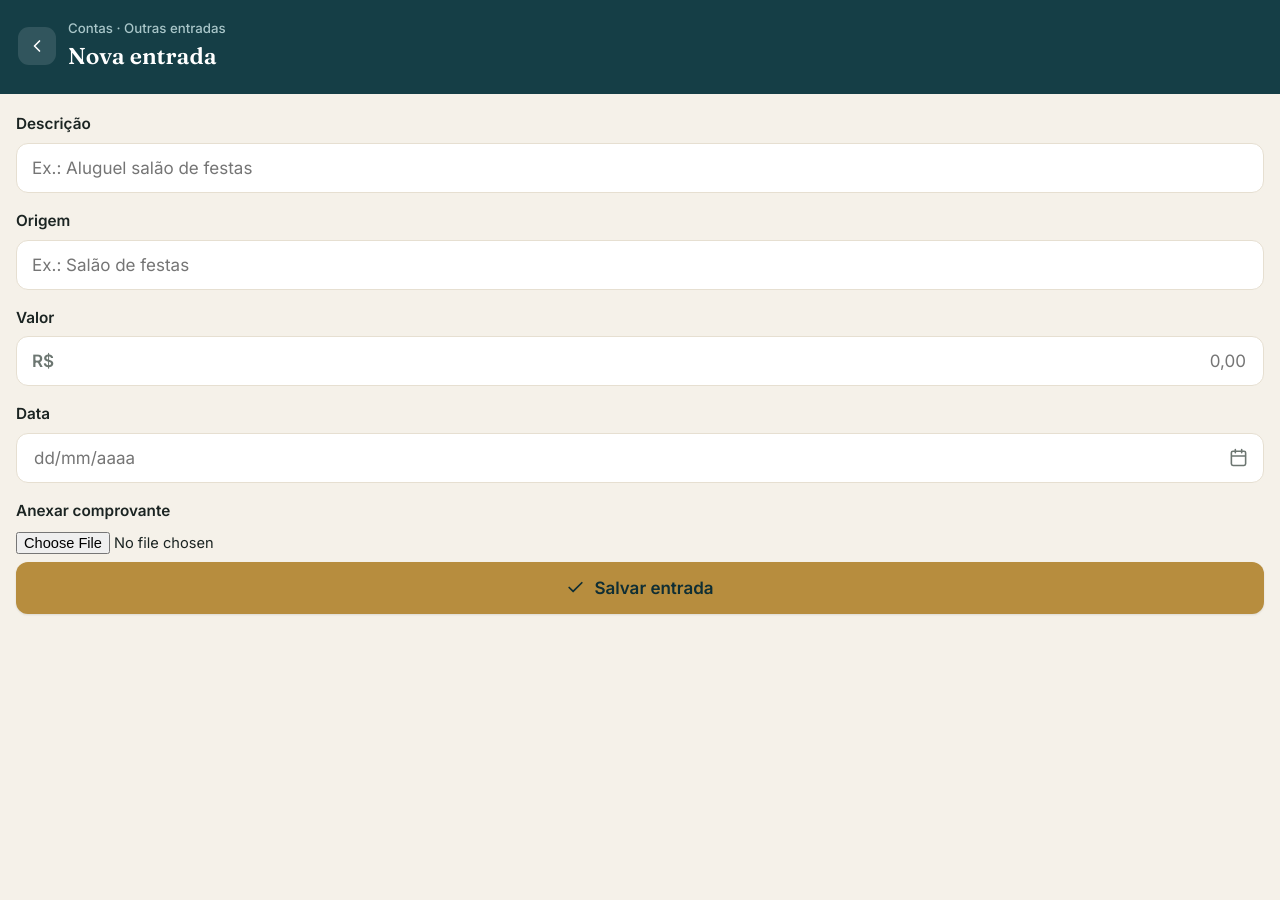
Scenario: IncomeEditScreen › shows a validation error and does not save when the date is invalid
Type "Aluguel salão de festas" into the field labelled "Descrição" at (640, 168), box [16,143,1264,193]
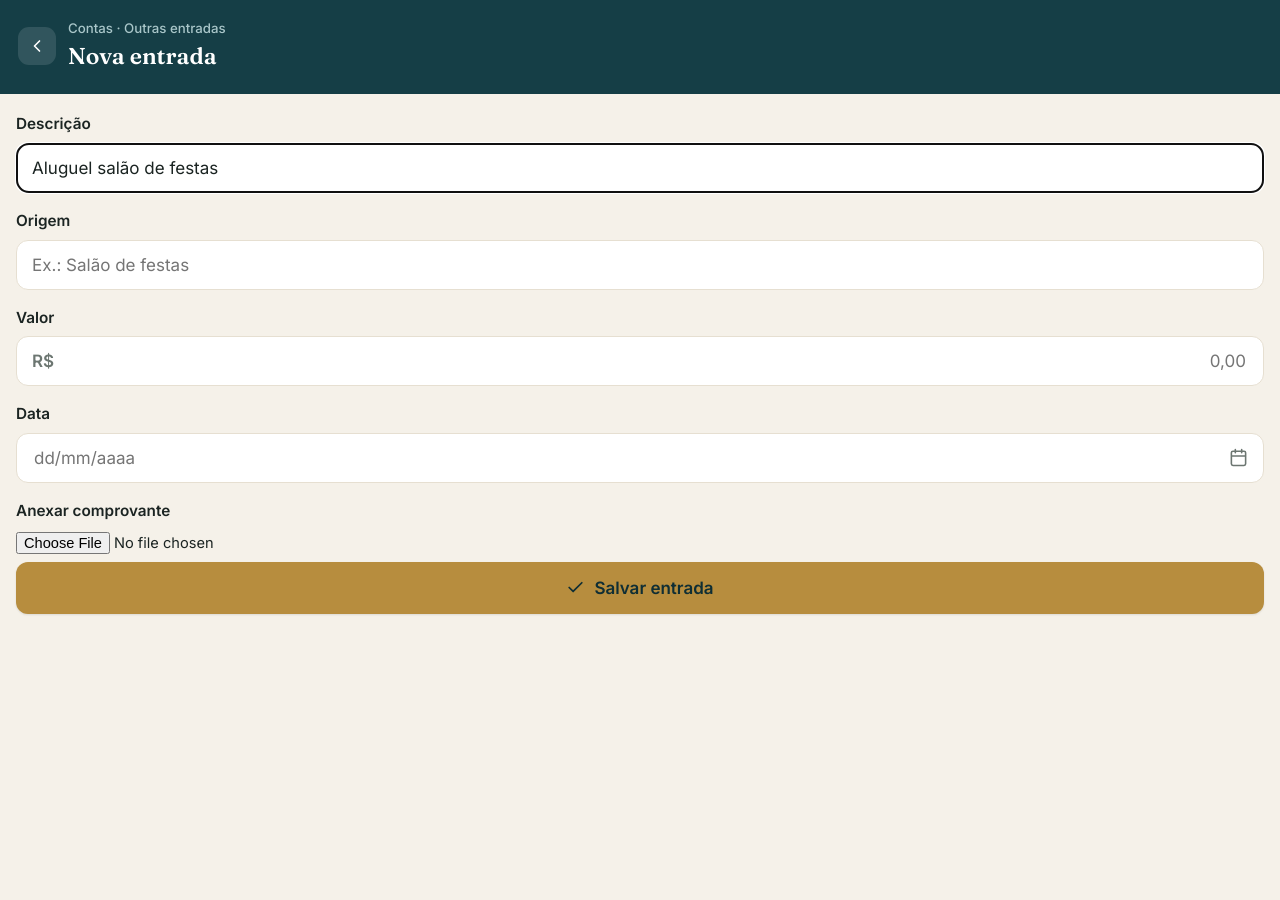
Type "Salão de festas" into the field labelled "Origem" at (640, 264), box [16,240,1264,290]
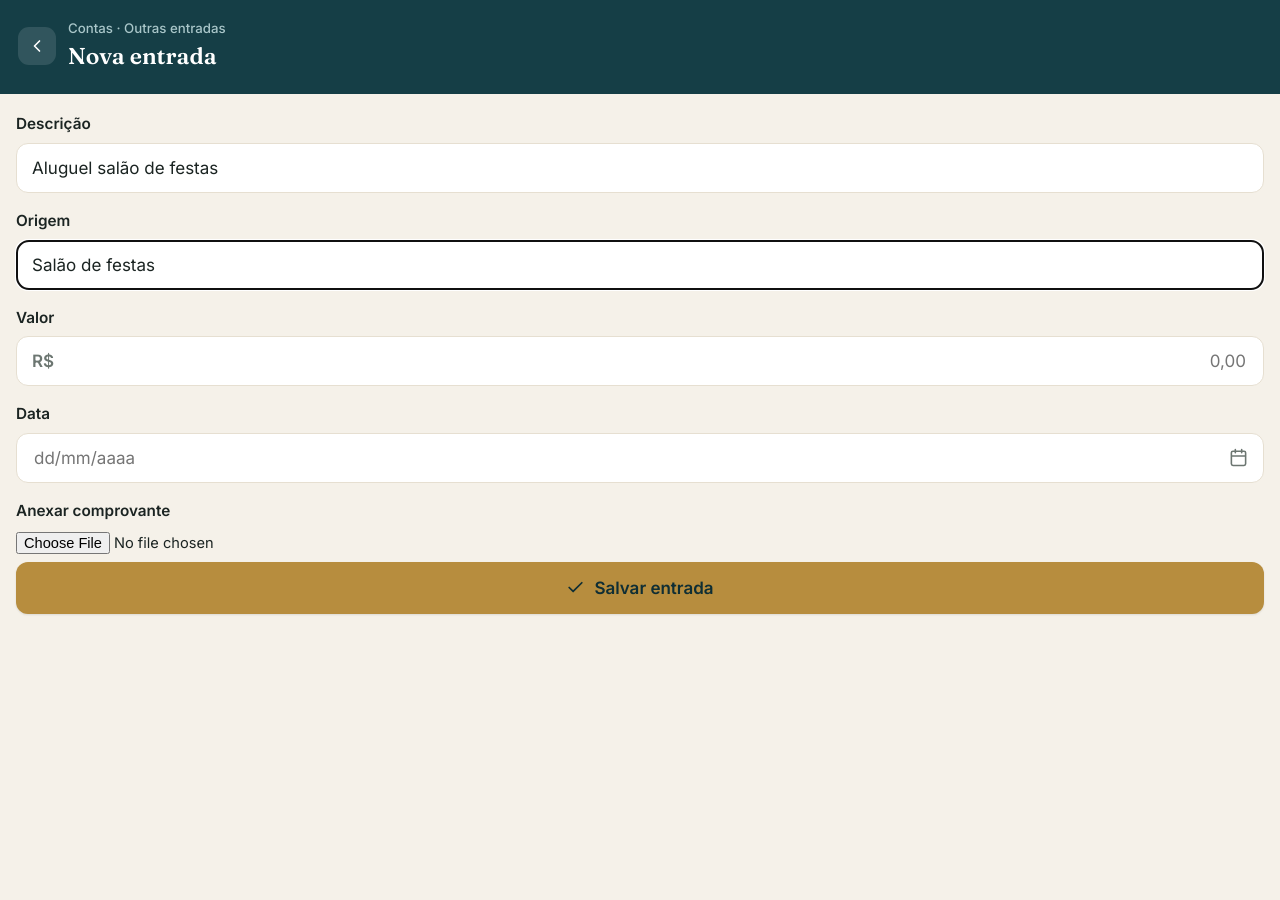
Type "31/02/2026" into the field labelled "Data" at (626, 458), box [32,447,1221,469]
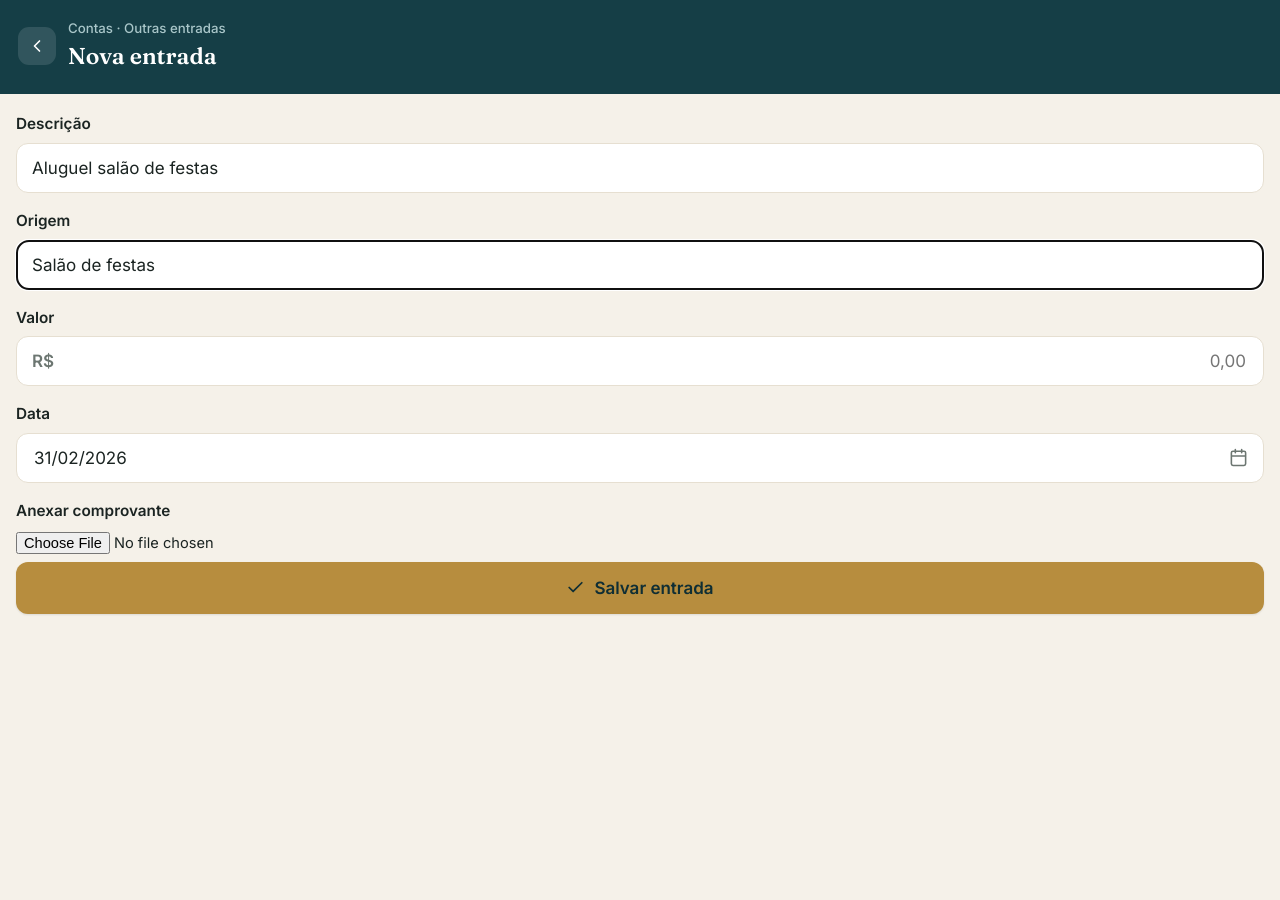
Type "35000" into the field labelled "Valor" at (655, 361), box [62,350,1248,372]
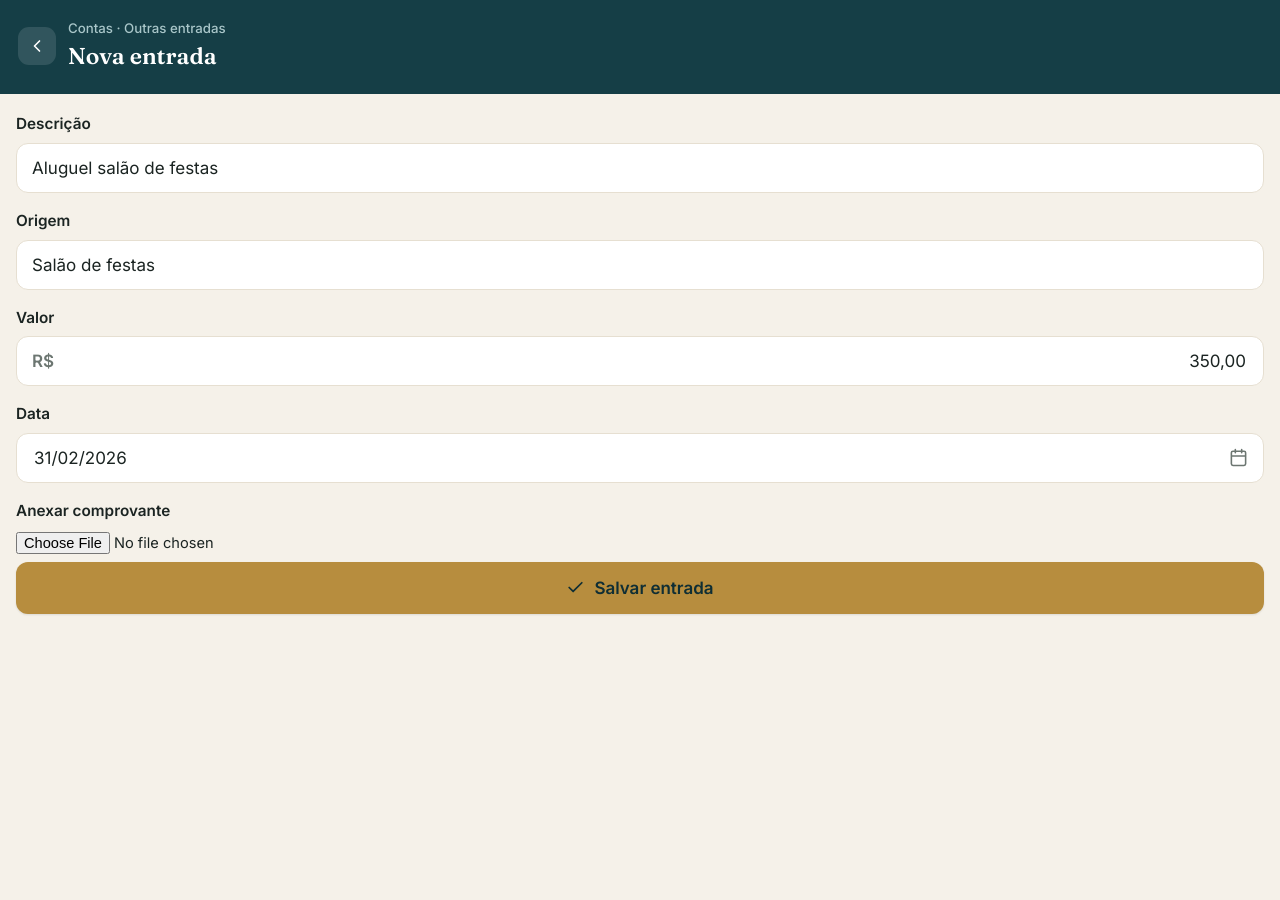
Click the button "Salvar entrada" at (640, 588), box [16,562,1264,614]
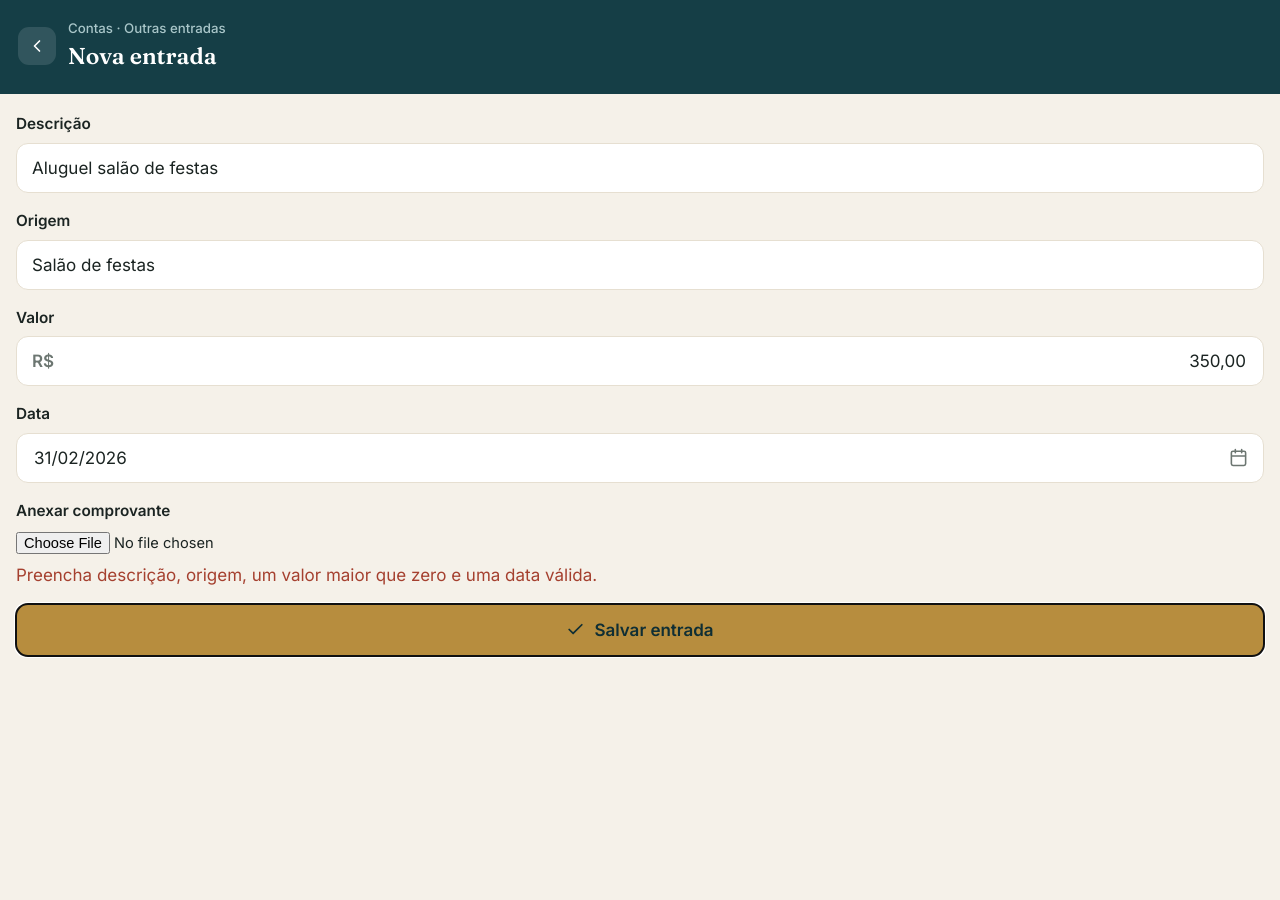
Expected: the message reads "Preencha descrição, origem, um valor maior que zero e uma data válida.", [16,565,597,585]
